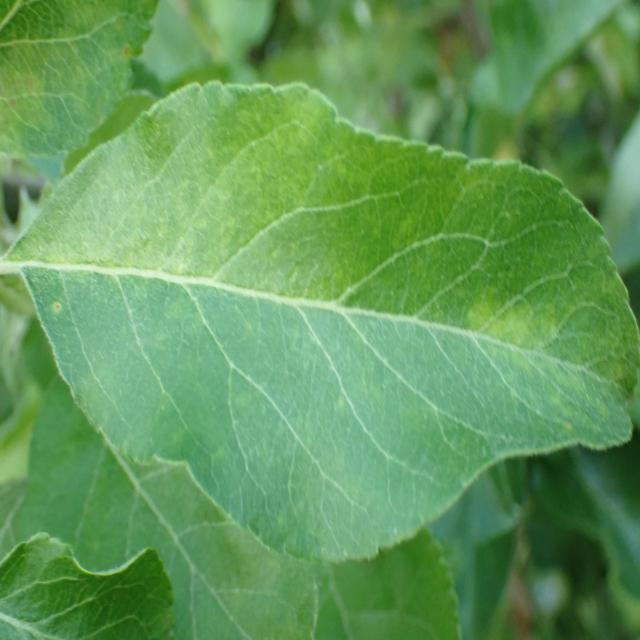scab: (77, 95, 567, 535)
